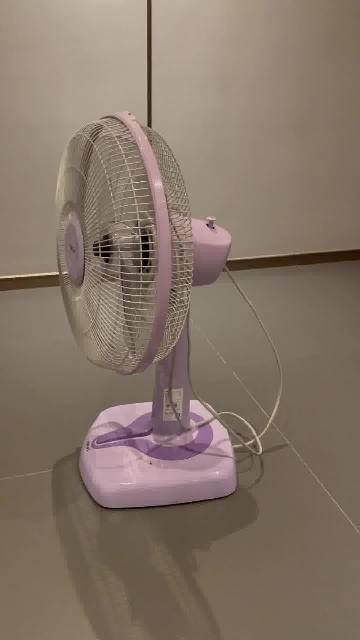Fan: (54, 113, 238, 512)
